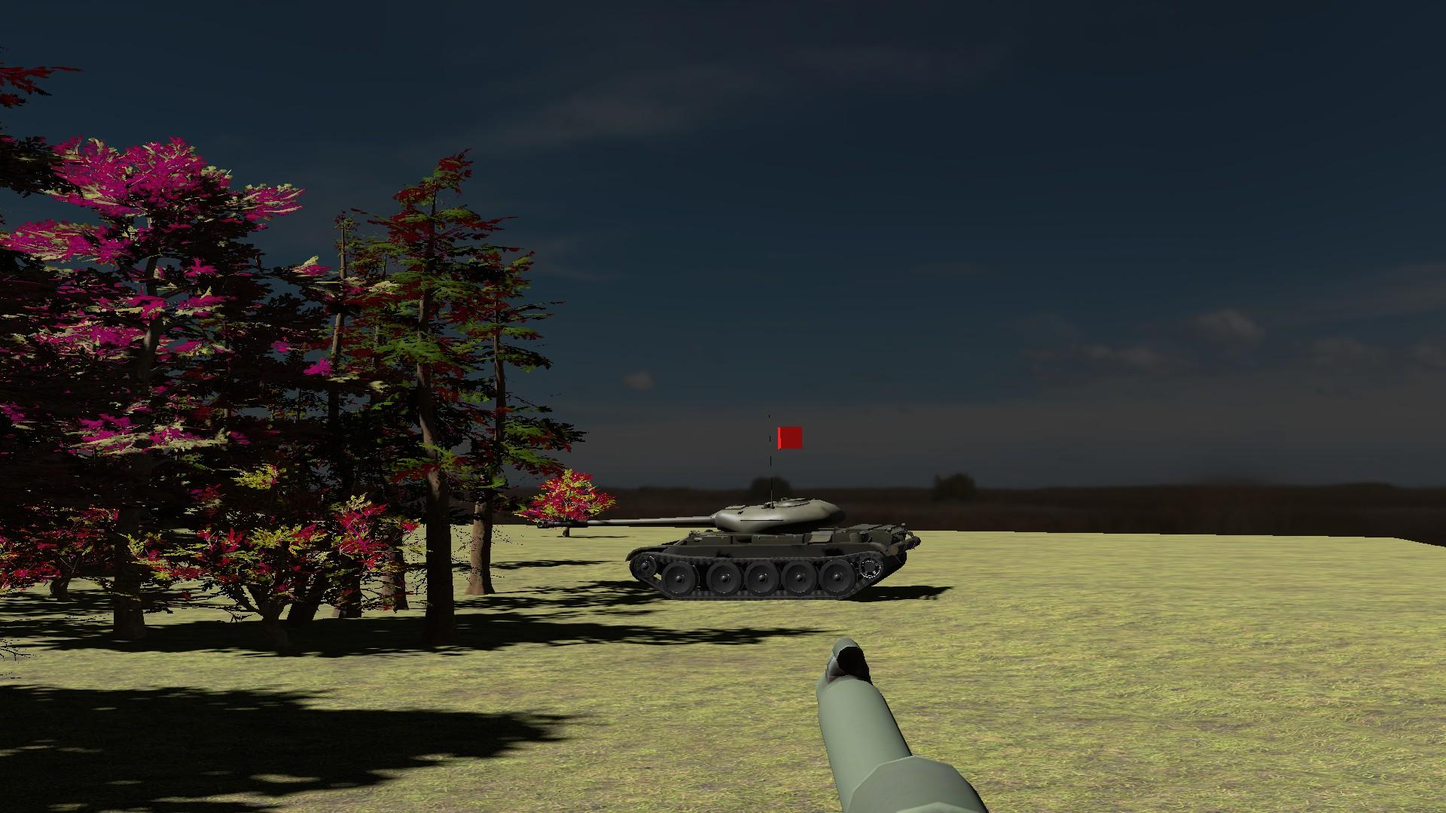Tank: (541, 486, 929, 608), (538, 487, 930, 607)
